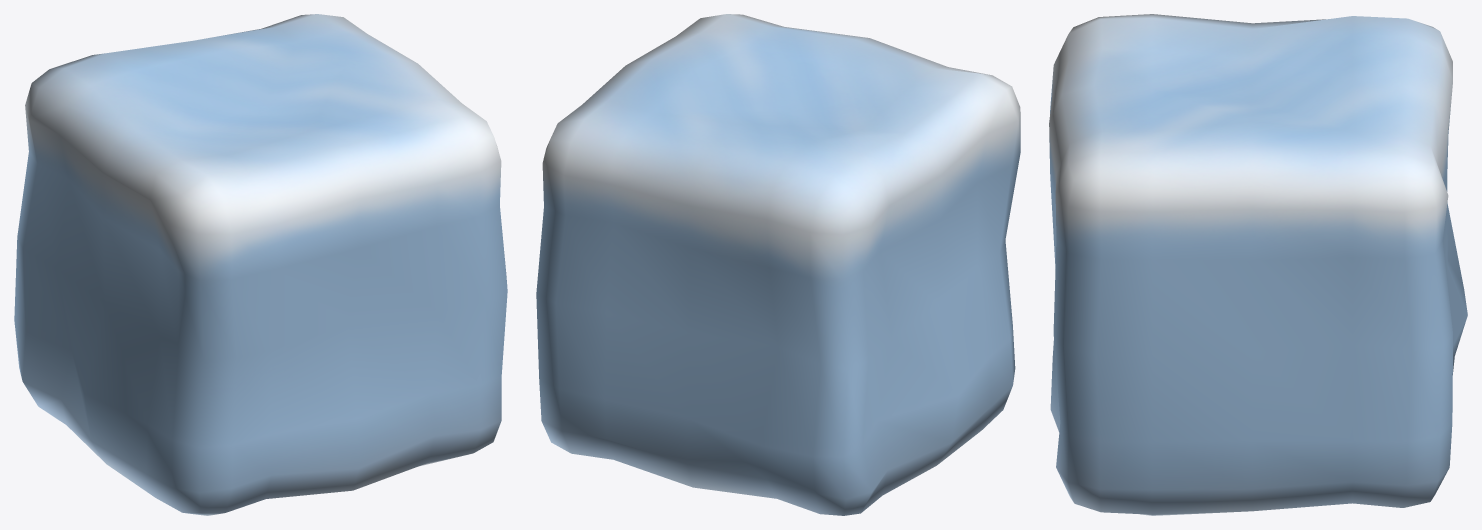
Rendered from ice_4.fbx.
3 views of the same model, side by side, from view 1: azimuth 30°, elevation 25°; view 2: azimuth 150°, elevation 25°; view 3: azimuth 270°, elevation 25° (orthographic). The views are drawn at different scales.
Visible parts, largest first — view 1: ice_4; view 2: ice_4; view 3: ice_4.
Part boxes in pixels (x1=…): ice_4: x1=14, y1=14, x2=507, y2=515; ice_4: x1=536, y1=14, x2=1020, y2=515; ice_4: x1=1049, y1=14, x2=1467, y2=515.
Size of the model in its own units: 1155 by 1116 by 1119.
